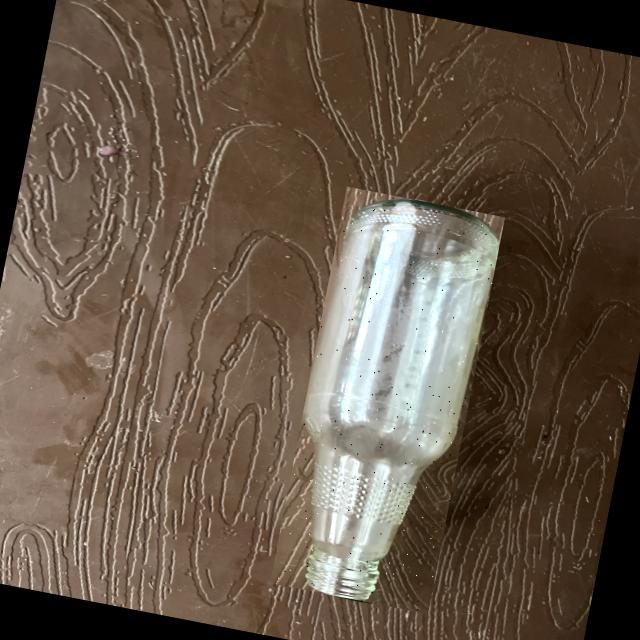Glass_Bottle: (304, 199, 498, 599)
